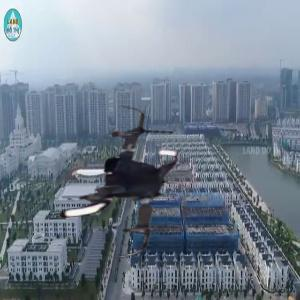drone: (33, 100, 197, 264)
